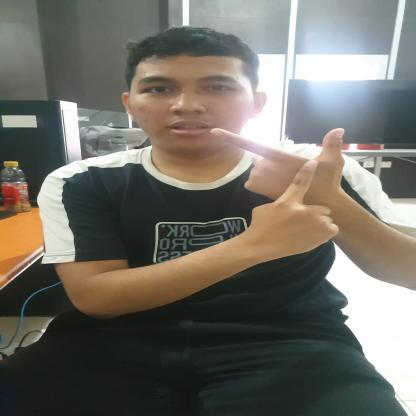Y: (207, 124, 351, 250)
